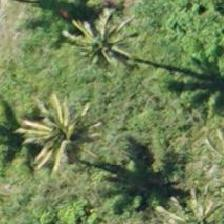coconut_tree: (15, 86, 105, 176), (52, 0, 142, 86)
